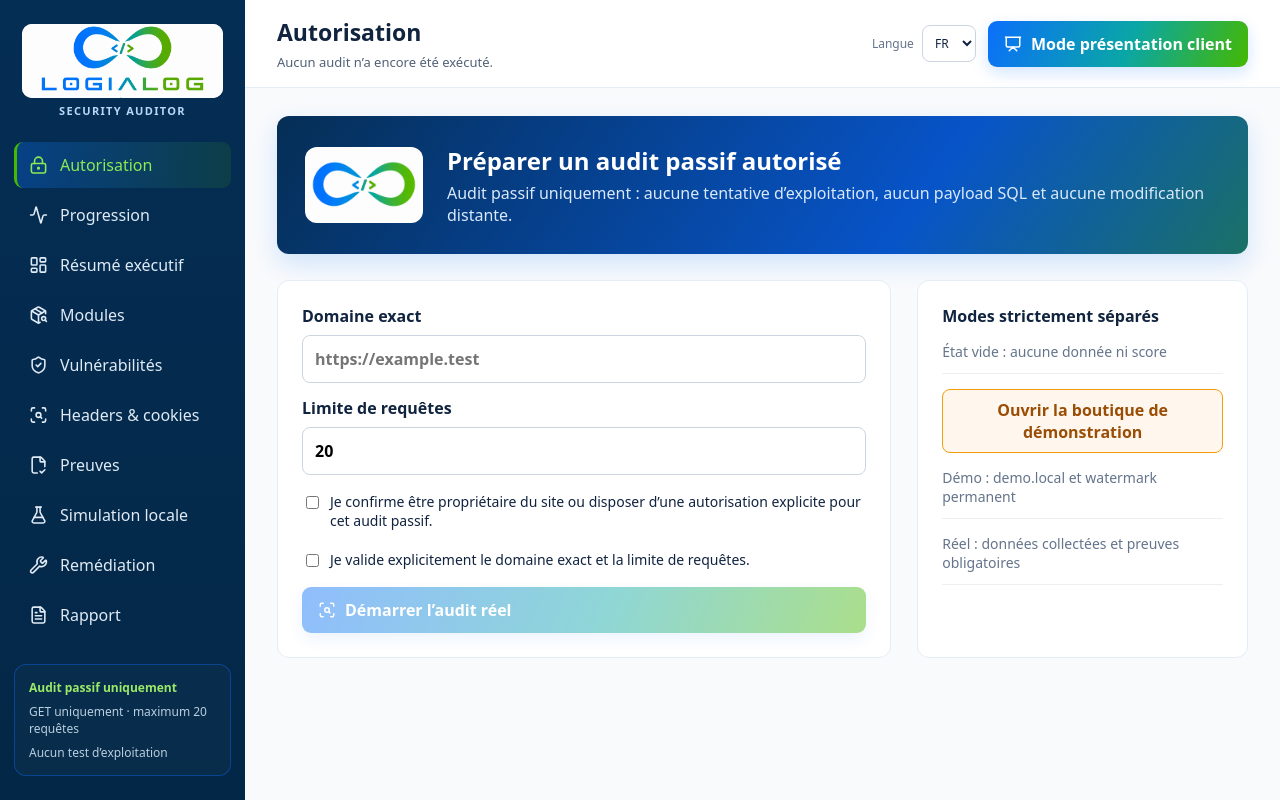
Test case: App › loads demo.local without enabling history
The width and height of the screenshot is (1280, 800).
Step 1. Click the button "Ouvrir la boutique de démonstration" → (1083, 421), box [942, 389, 1223, 453]
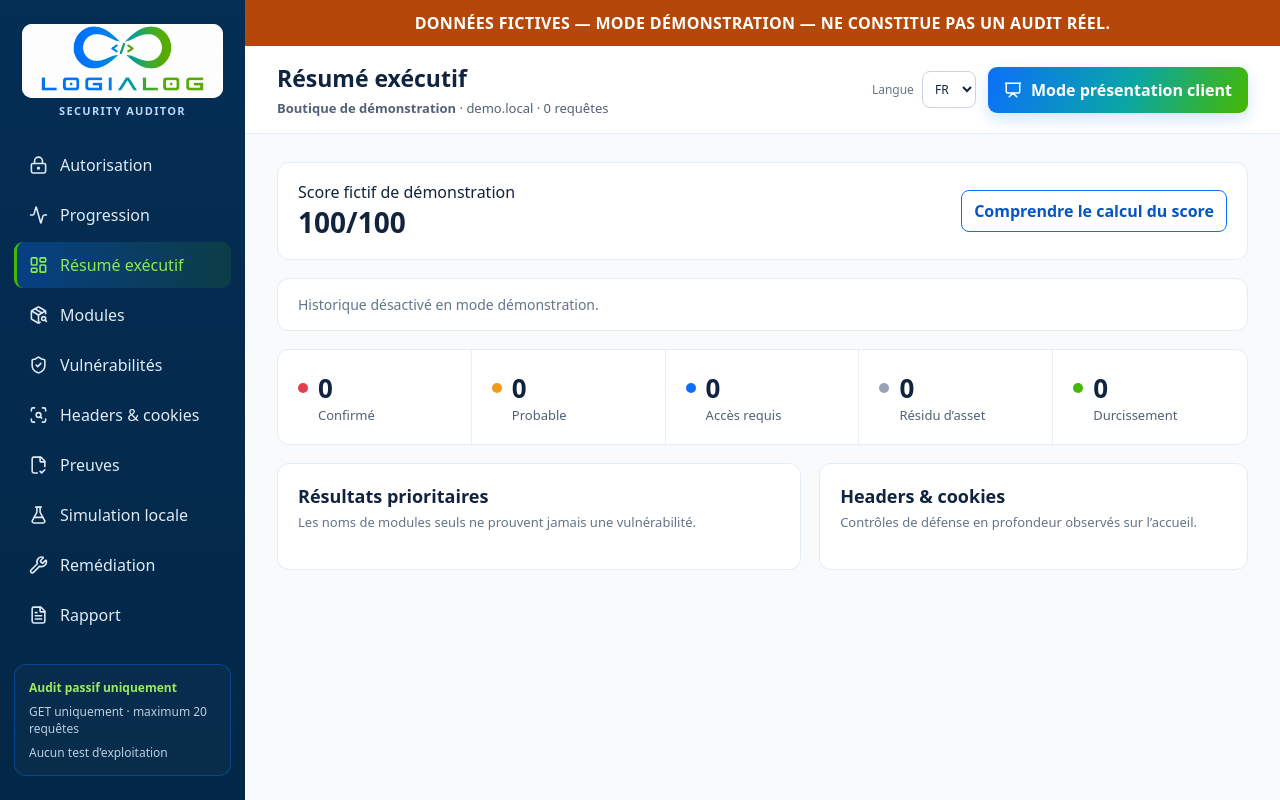
Result: the text "DONNÉES FICTIVES — MODE DÉMONSTRATION — NE CONSTITUE PAS UN AUDIT RÉEL." is shown at [245, 0, 1279, 46]
Result: the text "Boutique de démonstration" is shown at [277, 99, 456, 117]
Result: the text "Historique désactivé en mode démonstration." is shown at [277, 278, 1248, 331]
